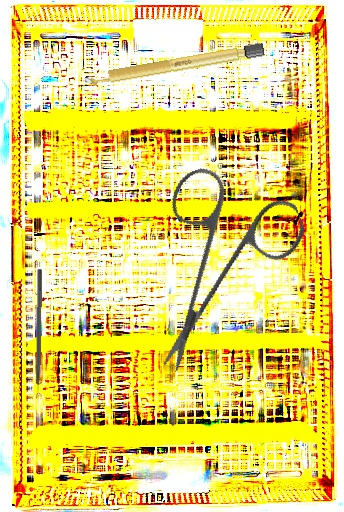Hook Surgical: (33, 268, 43, 404)
Iris Scissors: (103, 141, 336, 375)
Scalpel Handle: (81, 42, 266, 88)
